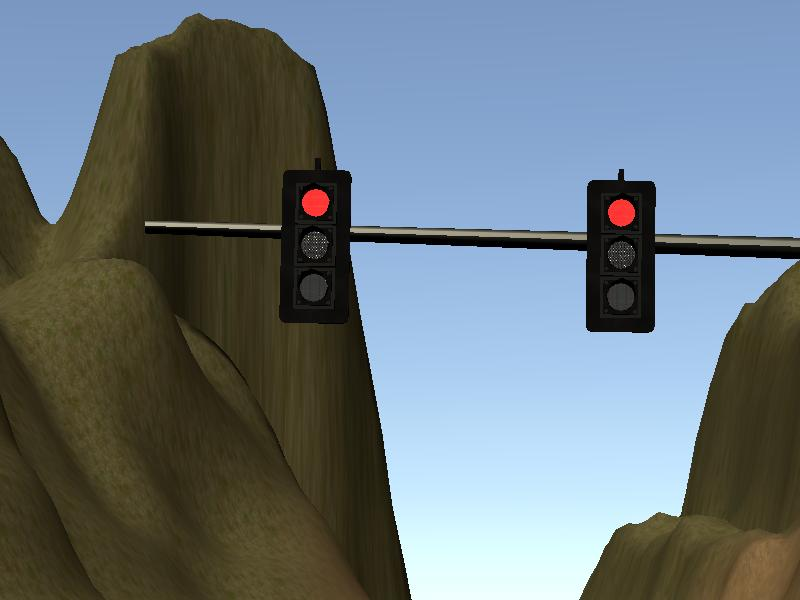red: (586, 177, 658, 335), (281, 168, 351, 326)
